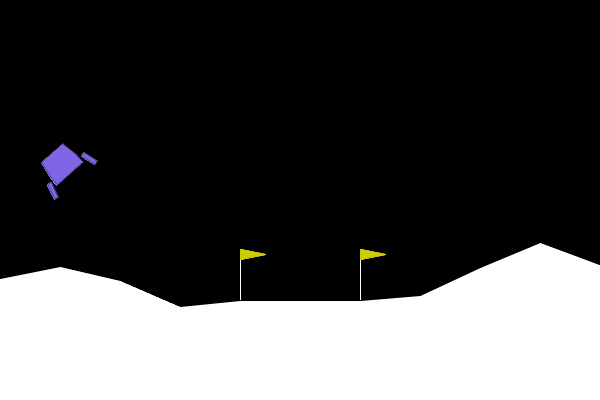lander: (28, 132, 99, 202)
